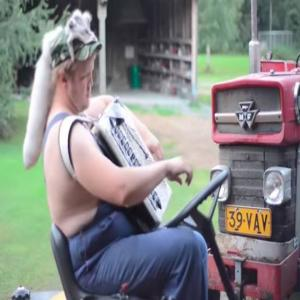Vehicle-registration-plate: (226, 203, 282, 253)
